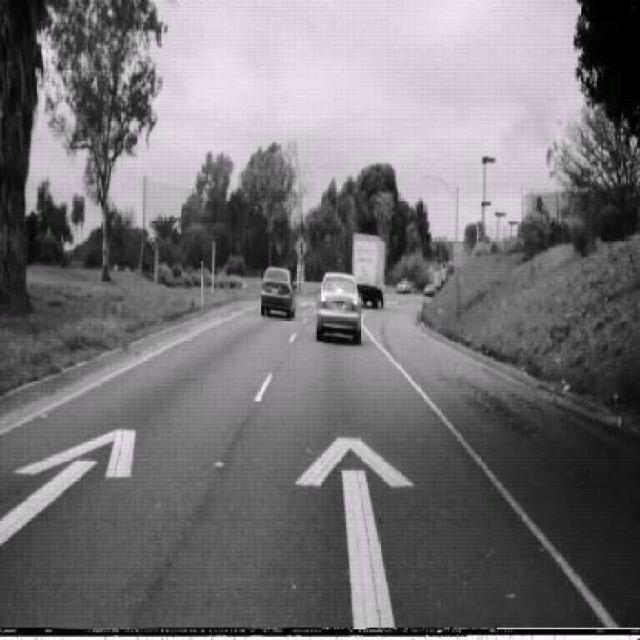merge: (294, 232, 309, 261)
